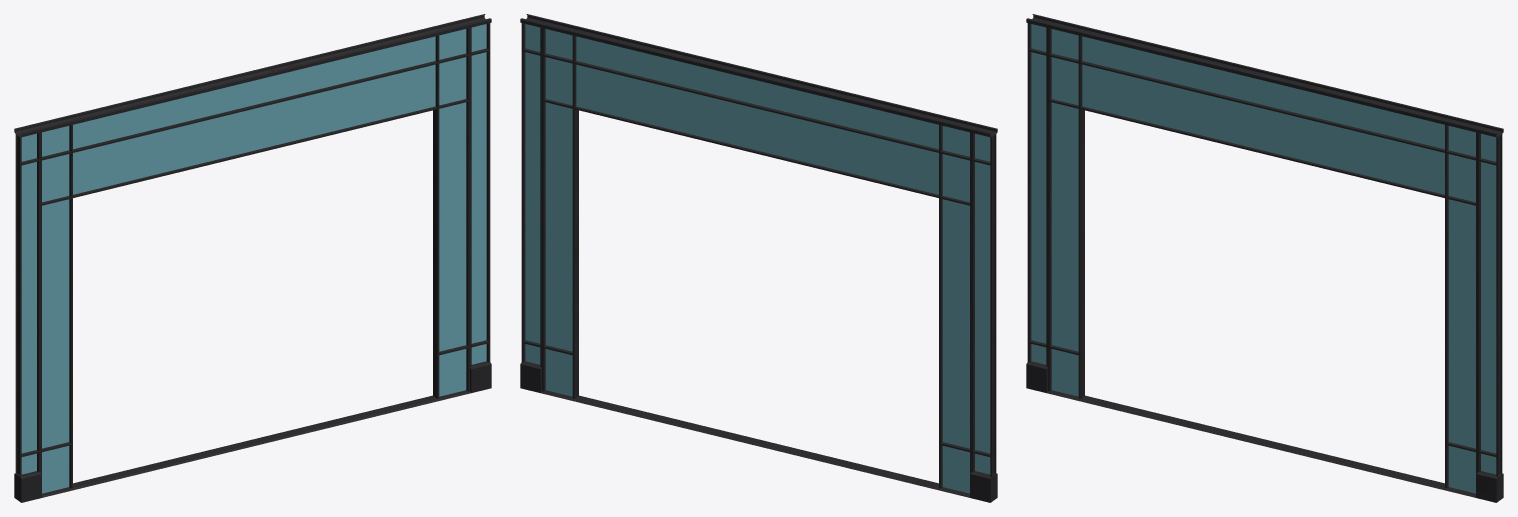
File: door-01.glb
3 views of the same model, side by side, from view 1: azimuth 30°, elevation 25°; view 2: azimuth 150°, elevation 25°; view 3: azimuth 330°, elevation 25° (orthographic).
Parts seen in each view (by area): view 1: Door_01_Glass, Door_01; view 2: Door_01_Glass, Door_01; view 3: Door_01_Glass, Door_01.
Part boxes in pixels (<box>): Door_01_Glass: <box>21,24,486,493</box>; Door_01: <box>14,14,491,502</box>; Door_01_Glass: <box>525,24,990,493</box>; Door_01: <box>520,14,997,502</box>; Door_01_Glass: <box>1031,24,1496,493</box>; Door_01: <box>1026,14,1503,502</box>.
Size of the model in its own units: 6 by 4.5 by 0.1597.
2 materials, 1 textured.
